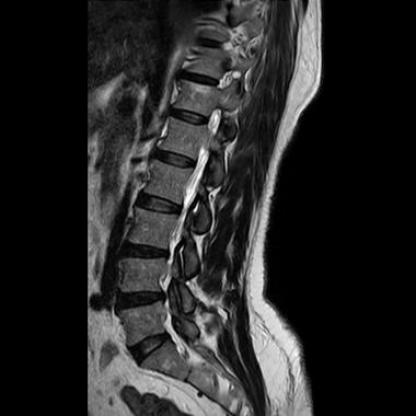Disc Bulgerotation: (111, 288, 167, 312), (118, 240, 169, 263)
